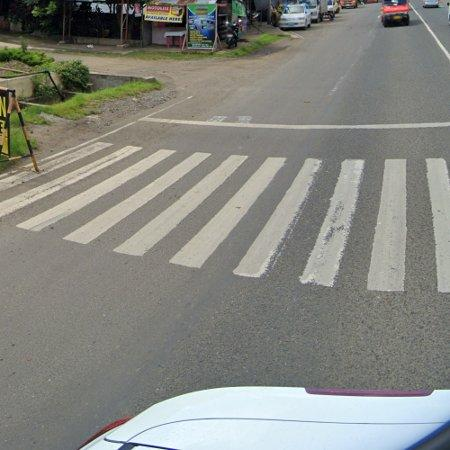crosswalks: (0, 138, 450, 293)
